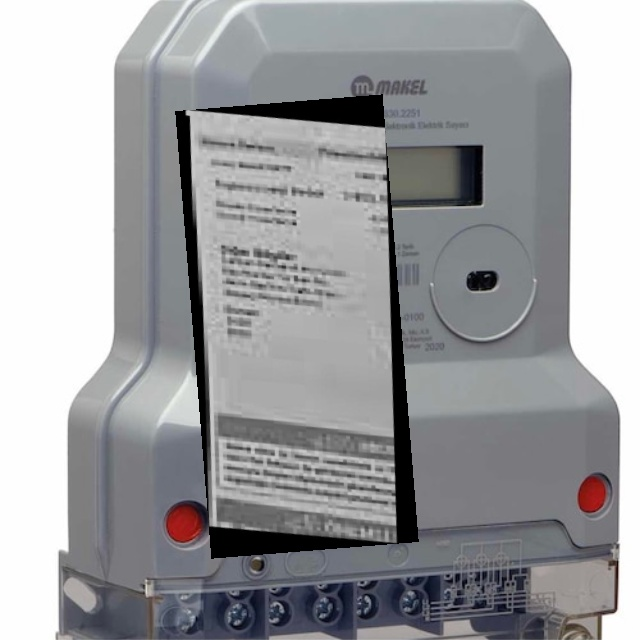electricity-bill: (174, 94, 418, 558)
